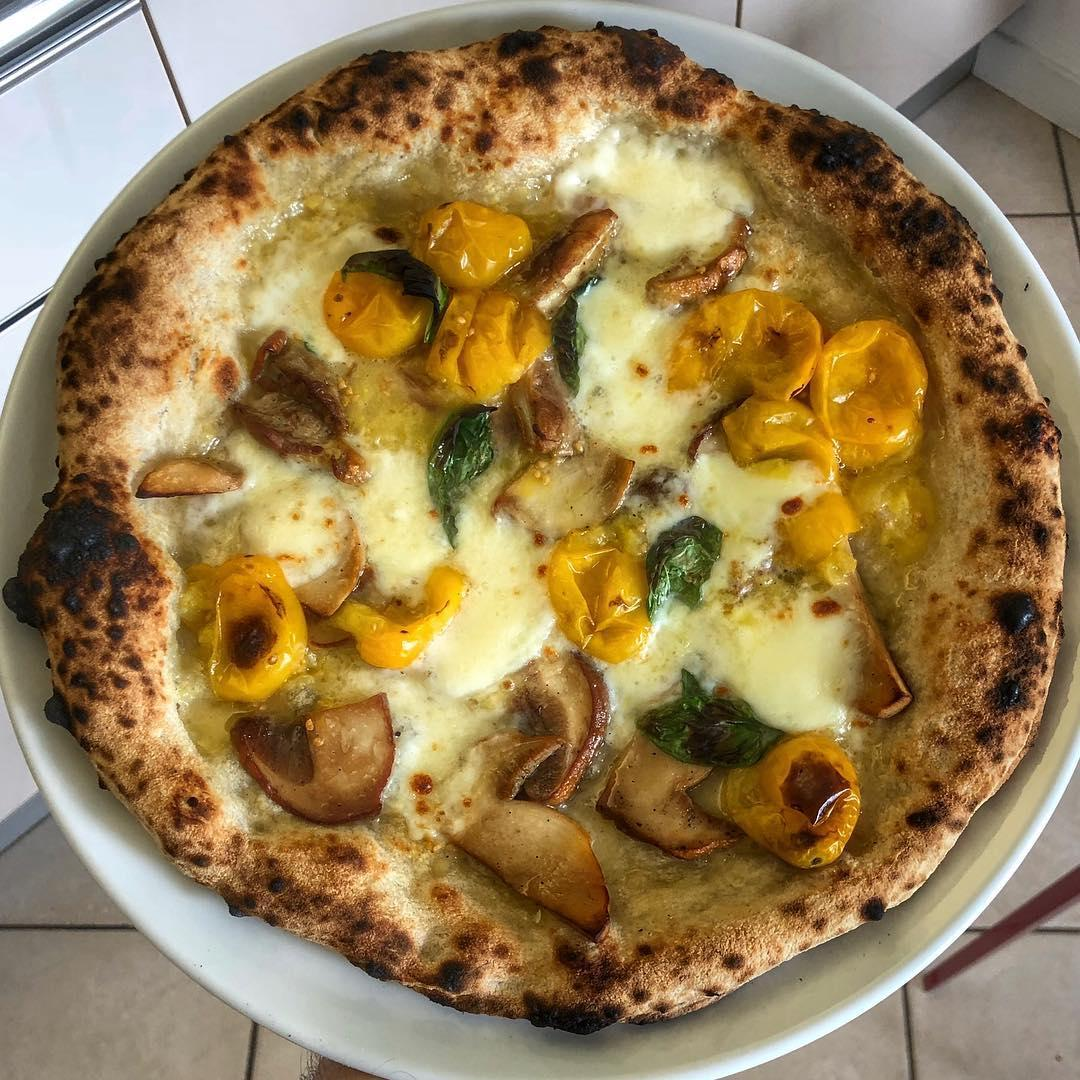Basil: (637, 674, 769, 761), (430, 406, 487, 550), (642, 515, 723, 607), (354, 250, 444, 307), (559, 293, 598, 397)
Mushroom: (427, 739, 605, 930), (228, 709, 406, 825), (231, 337, 359, 469), (481, 654, 602, 793), (606, 726, 732, 857), (498, 435, 640, 544), (522, 204, 616, 290), (637, 239, 749, 289), (136, 454, 237, 498)
Pizza: (53, 37, 1058, 1020)
Tomatoes: (735, 734, 866, 870), (194, 557, 313, 701), (328, 563, 464, 671), (676, 299, 826, 391), (540, 543, 655, 662), (819, 319, 928, 443), (435, 291, 550, 390), (409, 196, 539, 276), (723, 397, 834, 470), (326, 272, 423, 351), (791, 496, 856, 561)
